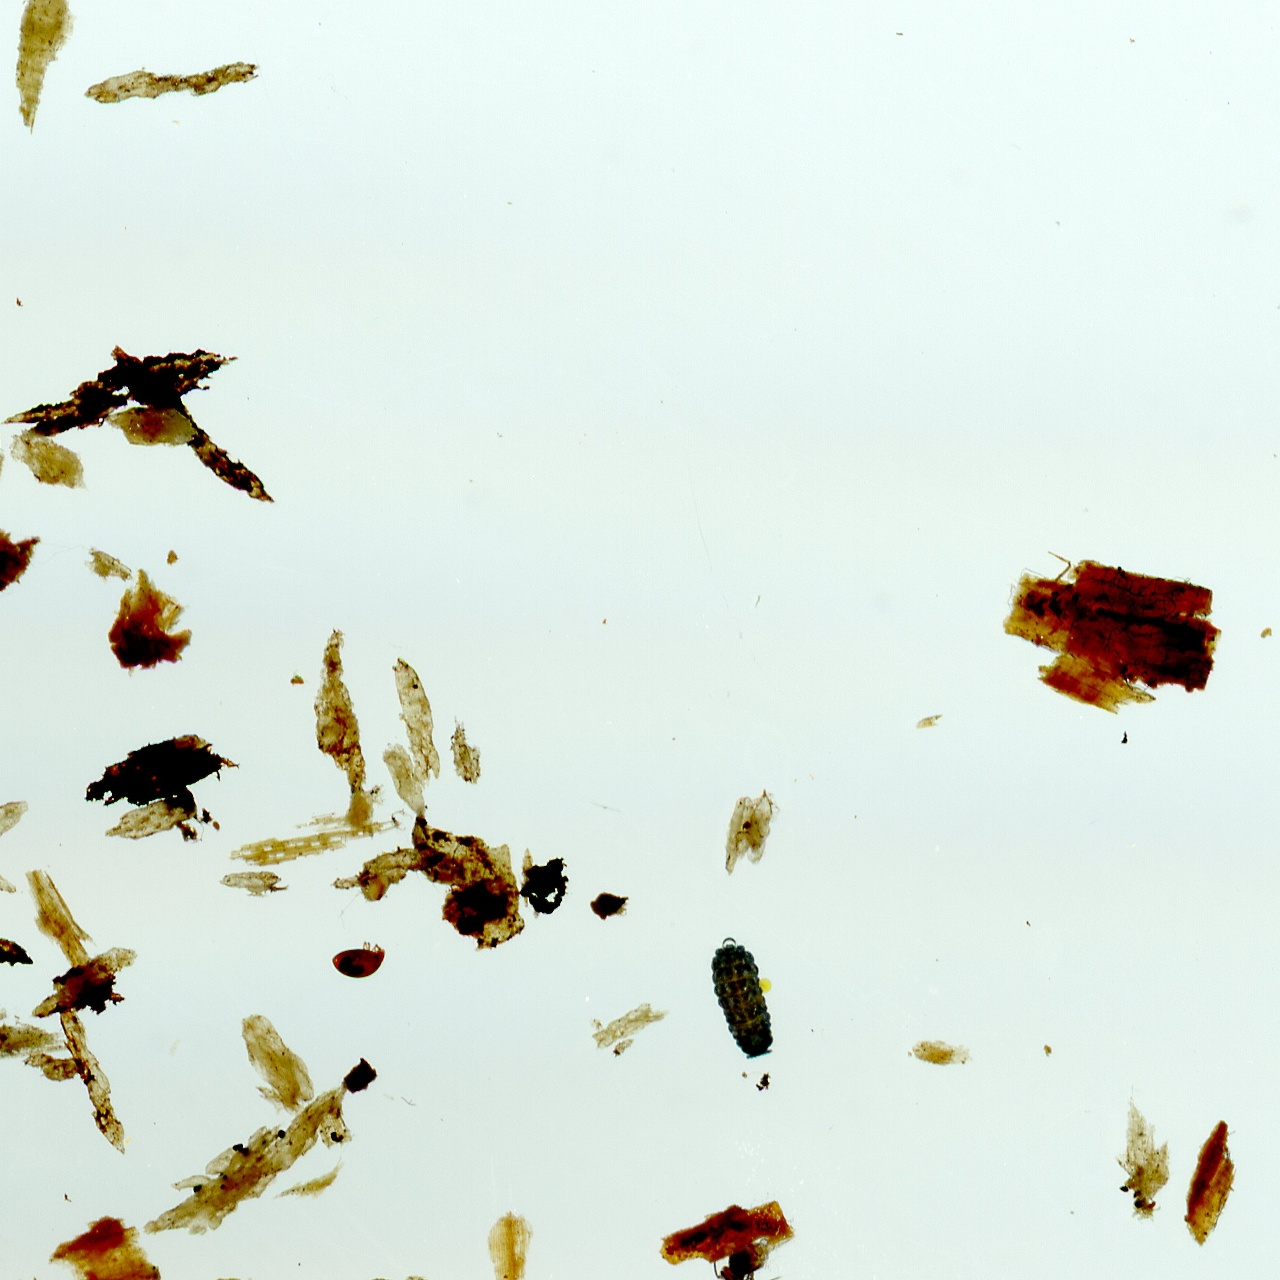arthropod: (699, 933, 785, 1068), (711, 1234, 783, 1280), (329, 941, 386, 980)
